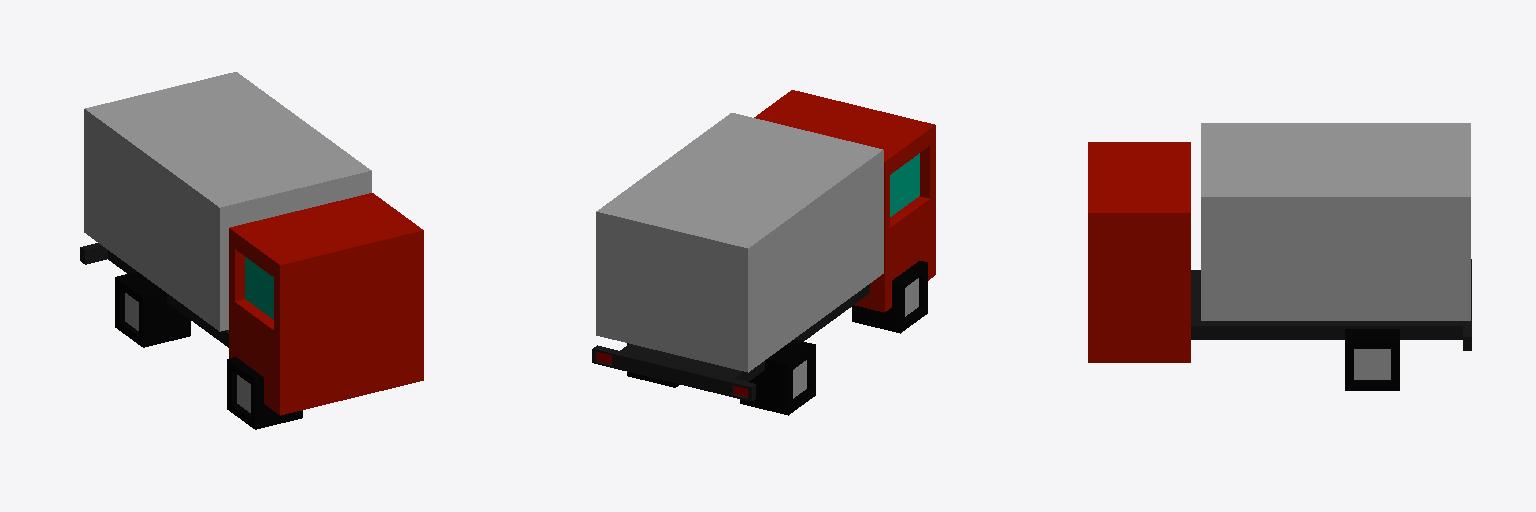
File: car1.obj
3 renders of one model, left to right at view 1: azimuth 30°, elevation 25°; view 2: azimuth 150°, elevation 25°; view 3: azimuth 270°, elevation 25°, orthographic.
Visible parts, largest first — view 1: Cube, Cube.002_Cube.001, Cube.001; view 2: Cube, Cube.002_Cube.001, Cube.001; view 3: Cube, Cube.003_Cube.001.
Part boxes in pixels (left/top/right/bottom): Cube: left=80, top=72, right=423, bottom=415; Cube.002_Cube.001: left=115, top=272, right=190, bottom=347; Cube.001: left=227, top=357, right=302, bottom=429; Cube: left=592, top=90, right=935, bottom=401; Cube.002_Cube.001: left=740, top=339, right=815, bottom=415; Cube.001: left=852, top=261, right=927, bottom=333; Cube: left=1088, top=123, right=1471, bottom=362; Cube.003_Cube.001: left=1345, top=329, right=1399, bottom=390.
Bounding box in the file's own units: 2.24 × 2.55 × 4.63.